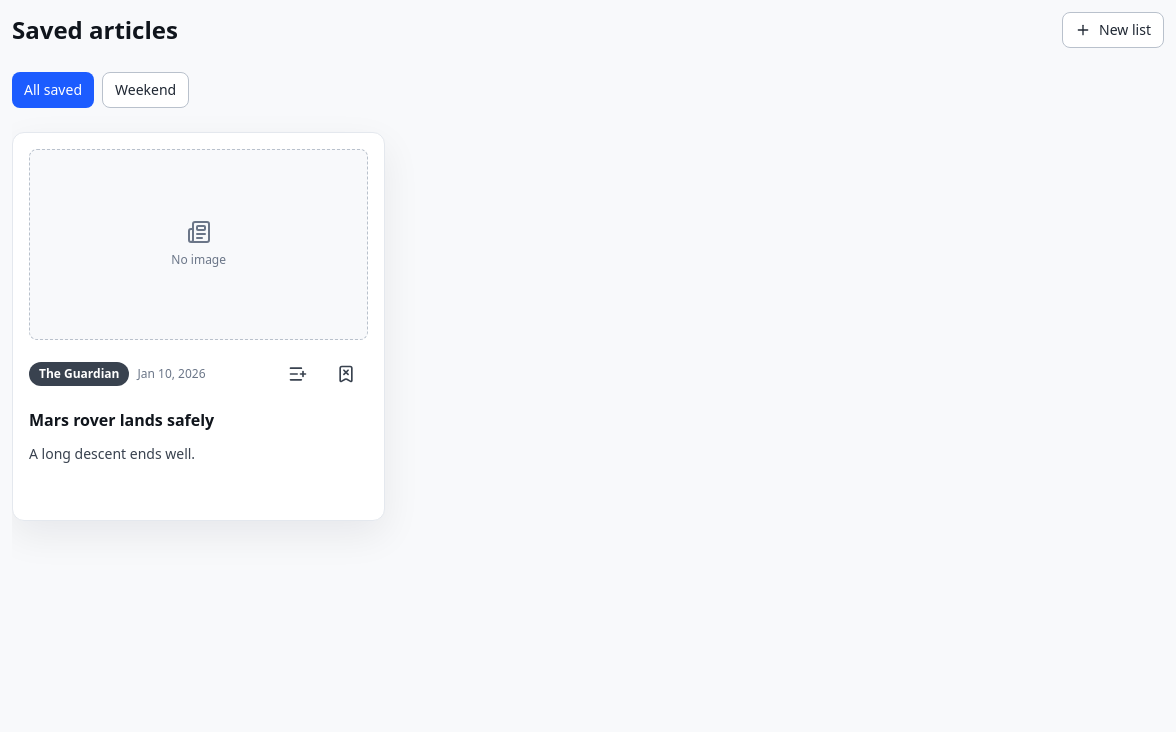
Test case: BookmarksPage — membership and removal › shows the empty-list card for a list holding nothing
Click the button "Weekend".
click(146, 90)  # box [102,72,189,108]
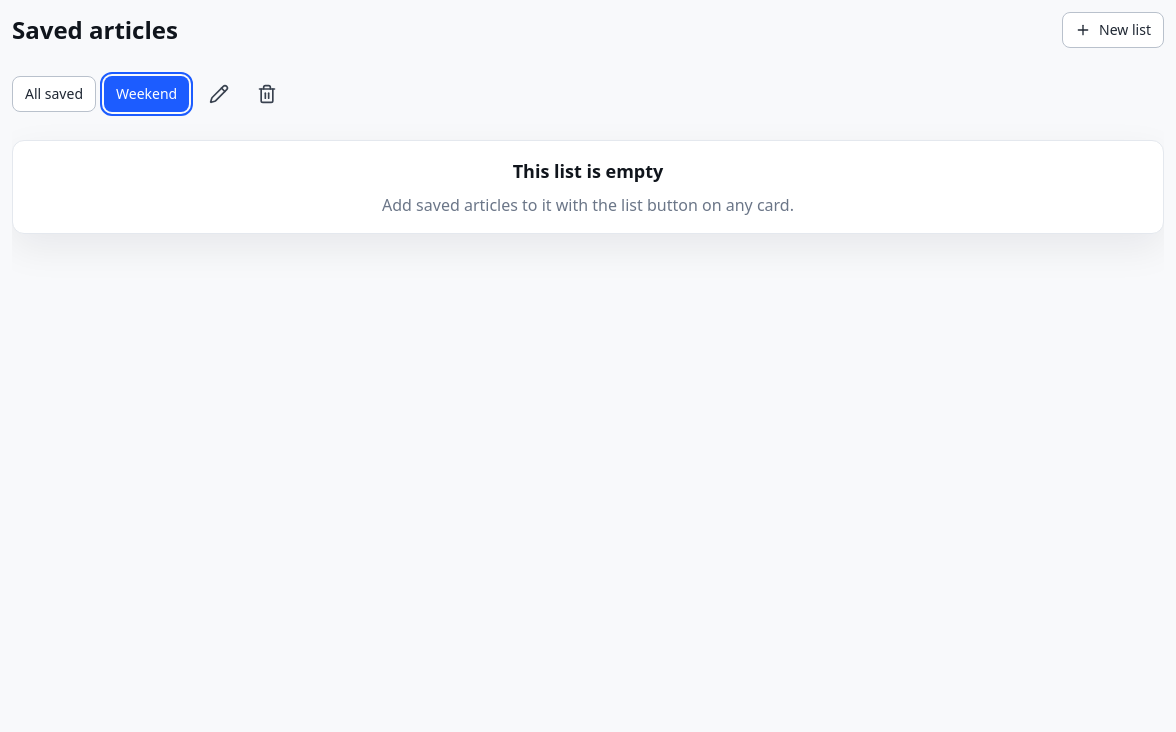
Now the heading "This list is empty" is shown, box [513,159,663,183]
Now the link "Mars rover lands safely" is gone
